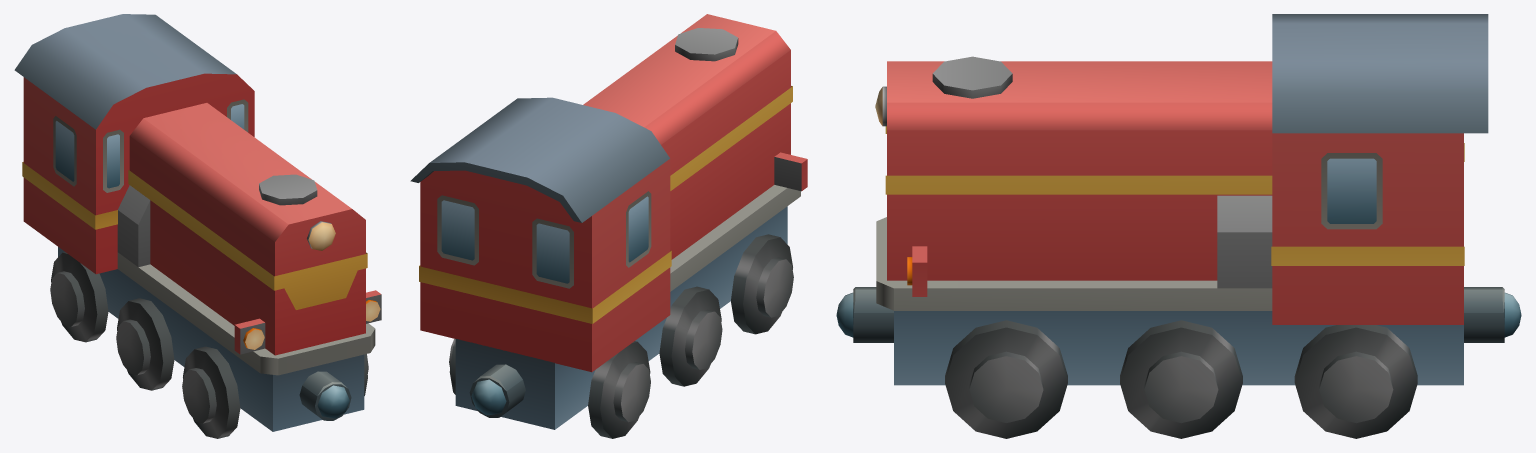
Rendered from Electric_Locomotive_B.fbx.
3 views of the same model, side by side, from view 1: azimuth 30°, elevation 25°; view 2: azimuth 150°, elevation 25°; view 3: azimuth 270°, elevation 25° (orthographic). The views are drawn at different scales.
Visible parts, largest first — view 1: Electric_Locomotive_B; view 2: Electric_Locomotive_B; view 3: Electric_Locomotive_B.
Part boxes in pixels (left/top/right/bottom): Electric_Locomotive_B: left=14, top=14, right=381, bottom=438; Electric_Locomotive_B: left=410, top=14, right=807, bottom=438; Electric_Locomotive_B: left=836, top=14, right=1521, bottom=438.
Bounding box in the file's own units: 279 × 440 × 777.
